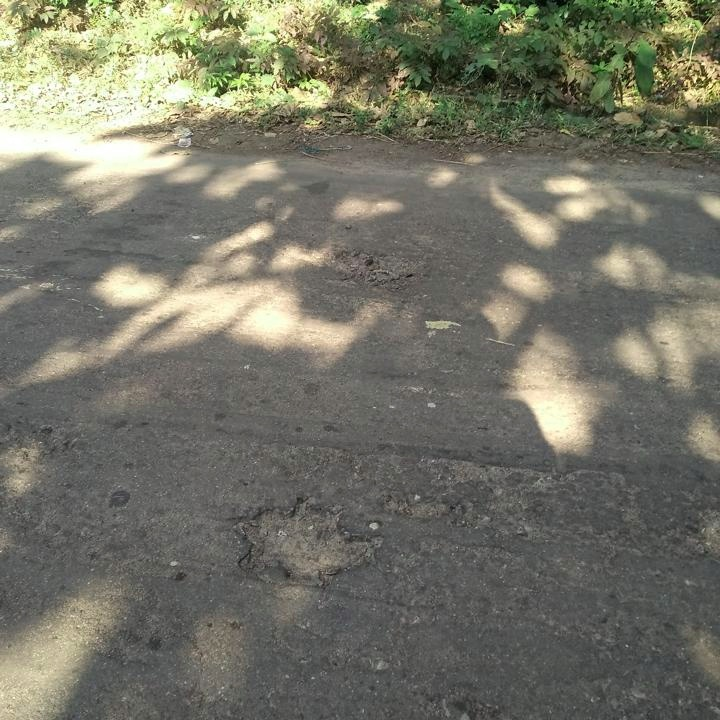pothole: (228, 494, 375, 588), (328, 242, 427, 290)
